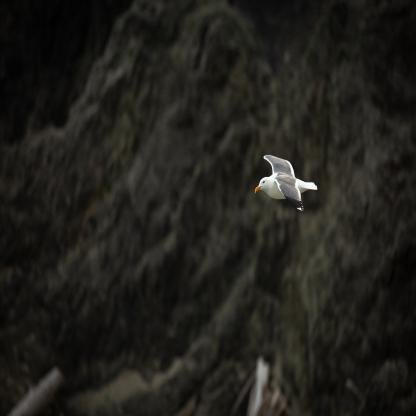bird: (255, 153, 318, 212)
